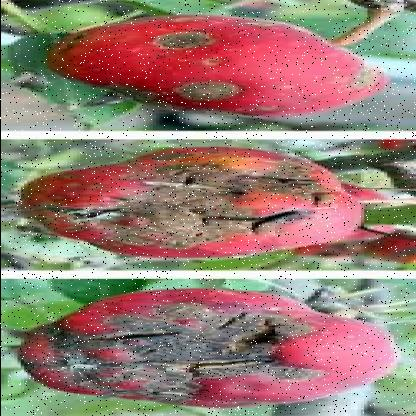damaged_apple: (37, 288, 383, 406), (20, 143, 354, 260), (59, 10, 366, 121)
